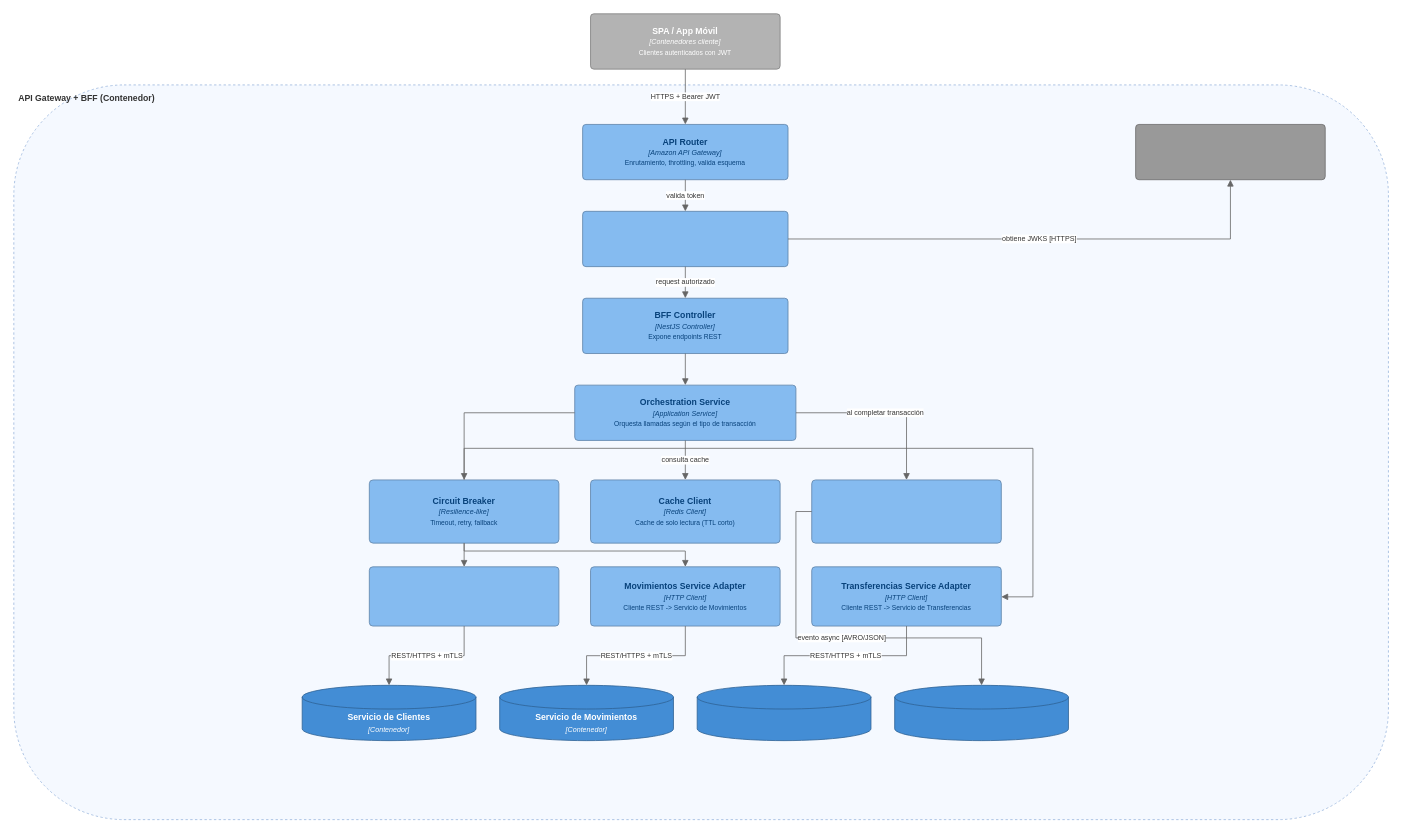
Some shapes in this 1402 by 833 pixel diagram are drawn without their labels. Here are the shapes that lost their labels. From the top down, the centre of each, then its label:
[1230,152]: IdP (OAuth 2.0) [Sistema externo]
[685,239]: Auth Middleware [JWT/JWKS] Valida firma y expiración del Access Token
[906,511]: Event Publisher [Outbox Pattern] Publica eventos de dominio
[464,596]: Cliente Service Adapter [HTTP Client] Cliente REST -> Servicio de Clientes
[783,713]: Servicio de Transferencias [Contenedor]
[981,713]: Bus de Eventos [Contenedor]
